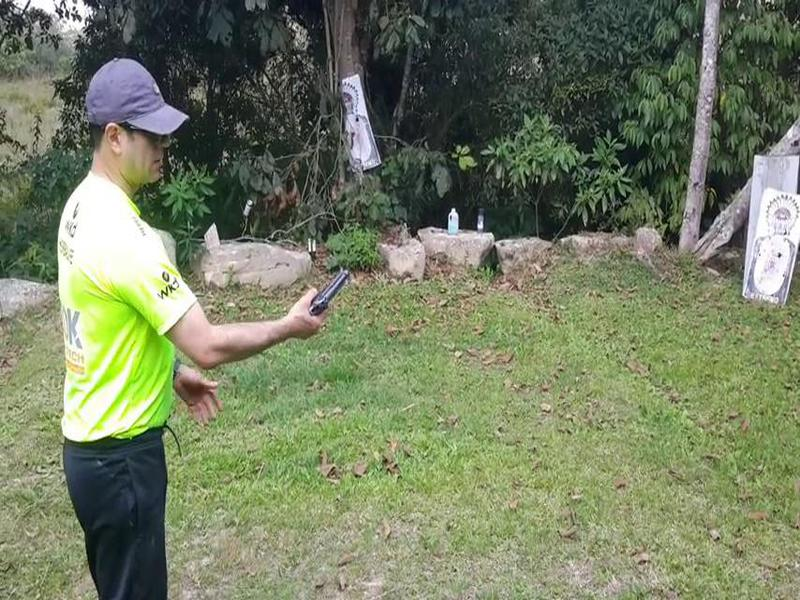Pistola: (298, 258, 363, 329)
